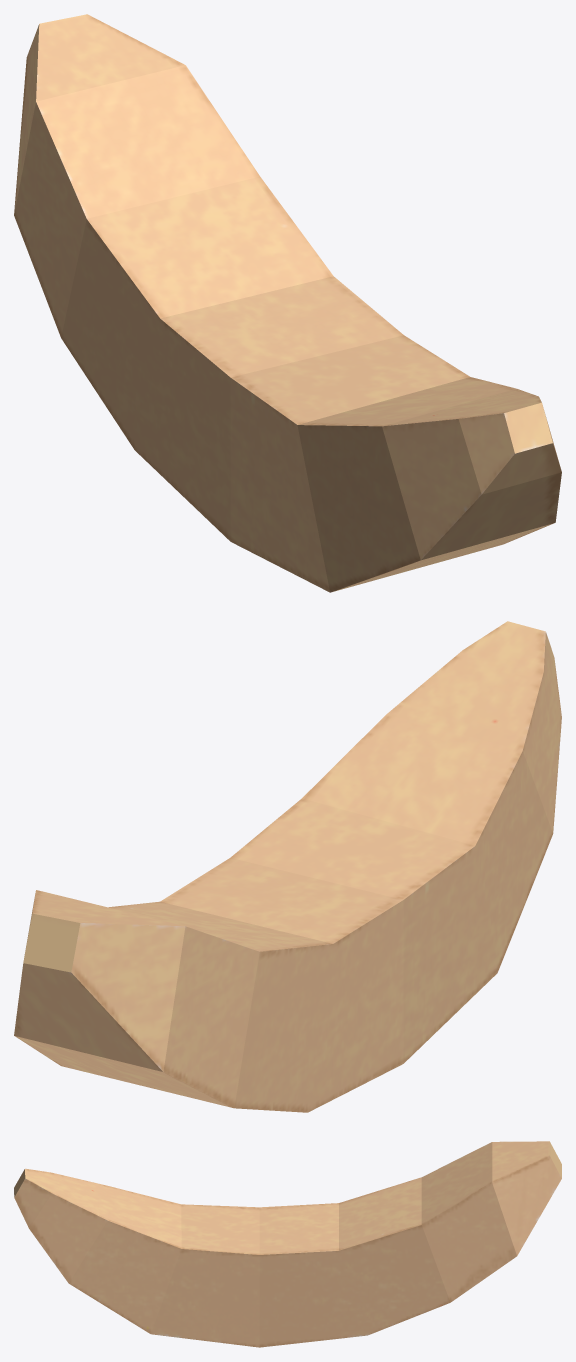
The model's file is platanopelado.fbx.
3 renders of one model, top to bottom at view 1: azimuth 30°, elevation 25°; view 2: azimuth 150°, elevation 25°; view 3: azimuth 270°, elevation 25°, orthographic. The views are drawn at different scales.
Visible parts, largest first — view 1: pelado; view 2: pelado; view 3: pelado.
Part boxes in pixels (x1,y1,x2,y2): pelado: (14,14,561,592); pelado: (14,621,561,1112); pelado: (14,1141,561,1347).
Bounding box in the file's own units: 19.54 × 32.75 × 92.06.
